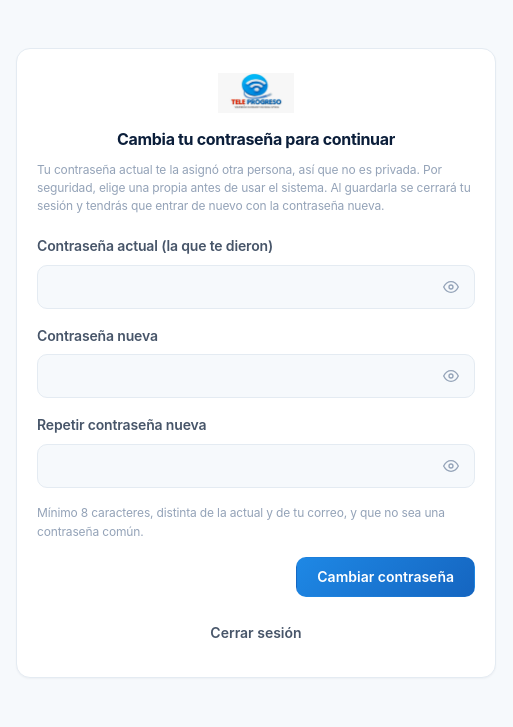
Test: CambioObligatorioPage › muestra el mensaje del 400 (igual al correo, igual a la actual)
Type "la-que-me-dieron" into the password field labelled "Contraseña actual (la que te dieron)" at (256, 287), box [37, 265, 475, 309]
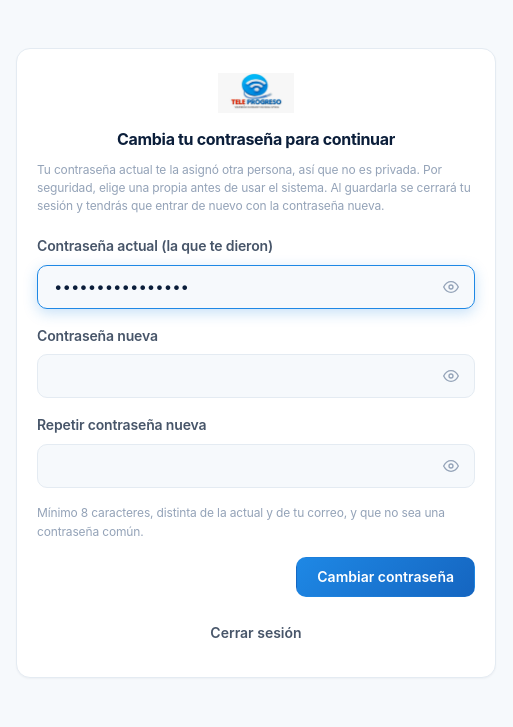
Type "Ruta-Segura-2026" into the password field labelled "Contraseña nueva" at (256, 376), box [37, 354, 475, 398]
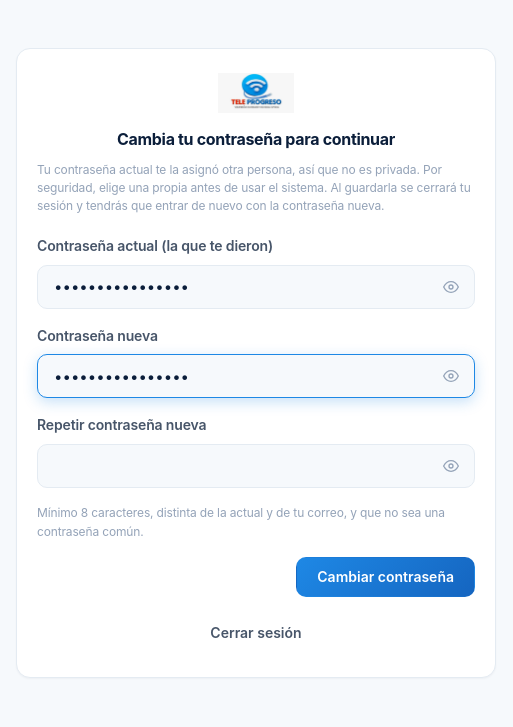
Type "Ruta-Segura-2026" into the password field labelled "Repetir contraseña nueva" at (256, 466), box [37, 444, 475, 488]
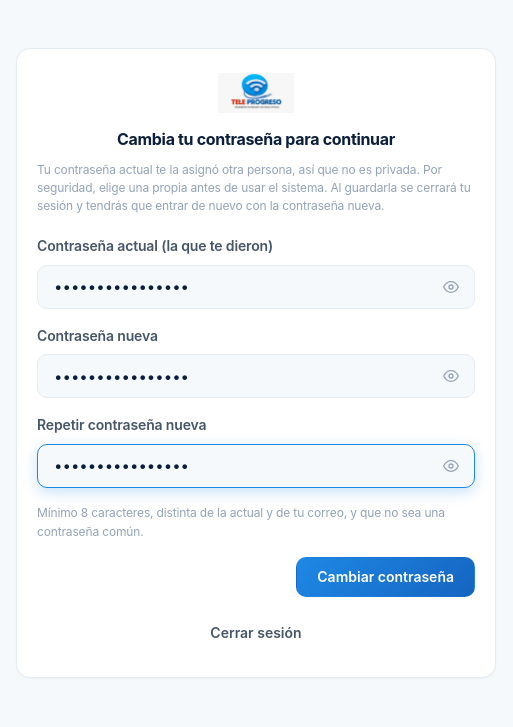
Click the button "Cambiar contraseña" at (386, 577), box [296, 557, 475, 597]
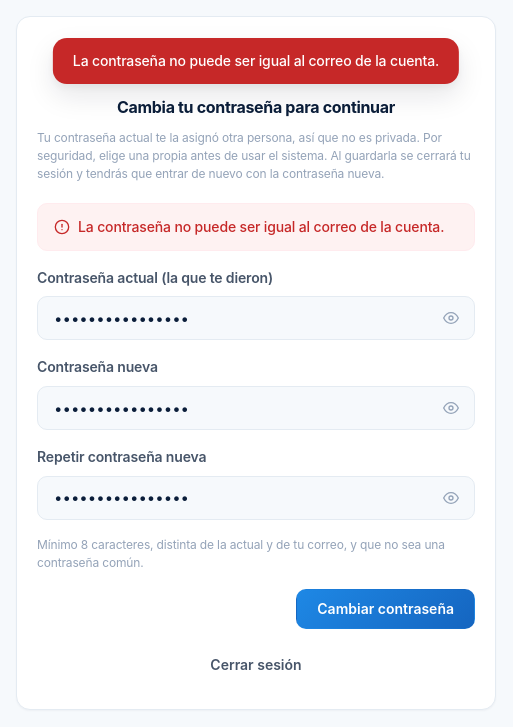
Expected: the text "La contraseña no puede ser igual al correo de la cuenta." below "Cambia tu contraseña para continuar" is shown, [78, 218, 444, 235]
